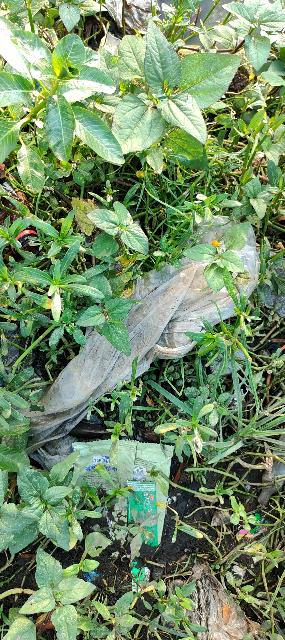polythene: (23, 215, 263, 429)
